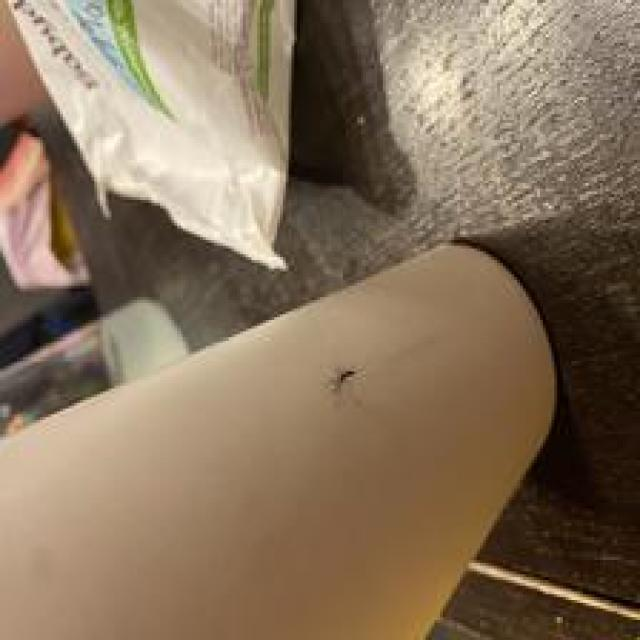Aedes albopictus: (0, 236, 563, 638)
